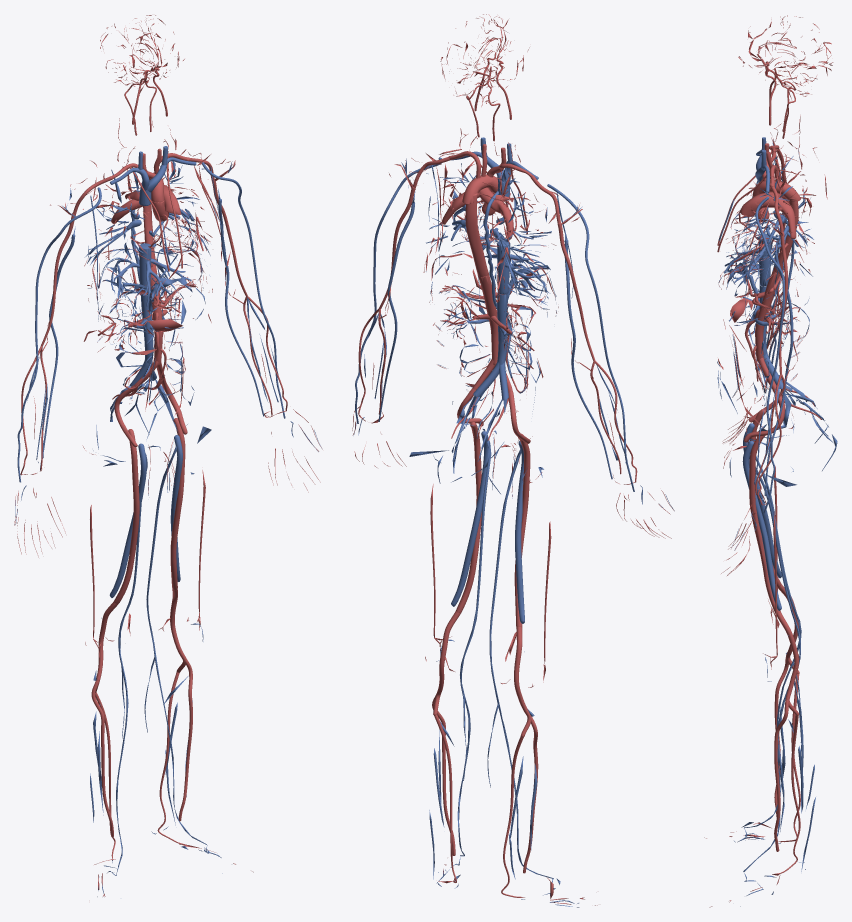
File: vessels.glb
3 renders of one model, left to right at view 1: azimuth 30°, elevation 25°; view 2: azimuth 150°, elevation 25°; view 3: azimuth 270°, elevation 25°, orthographic. The views are drawn at different scales.
Parts seen in each view (by area): view 1: arbre-veineux, arbre-arteriel, artere-femorale-droite, grande-veine-saphene-gauche, grande-veine-saphene-droit, artere-femorale-gauche, veine-cave-inferieure, veine-cephalique-droite, veine-femorale-droite, veine-cephalique-gauche, veine-femorale-gauche, veine-basilique-gauche (+2 smaller); view 2: arbre-veineux, arbre-arteriel, grande-veine-saphene-droit, grande-veine-saphene-gauche, veine-cave-inferieure, veine-femorale-droite, veine-femorale-gauche, artere-femorale-gauche, veine-cephalique-droite, aorte-thoracique-descendante, artere-femorale-droite, veine-cephalique-gauche (+3 smaller); view 3: arbre-arteriel, arbre-veineux, artere-femorale-gauche, veine-cephalique-gauche, veine-femorale-gauche, grande-veine-saphene-droit, grande-veine-saphene-gauche, aorte-abdominale, veine-cave-inferieure, veine-basilique-gauche, artere-anterieure-tibiale-gauche, veine-femorale-droite (+12 smaller).
Part boxes in pixels (box(x1,y1,x2,y2)): arbre-veineux: box(15, 161, 321, 896); arbre-arteriel: box(14, 15, 321, 896); artere-femorale-droite: box(114, 429, 139, 603); grande-veine-saphene-gauche: box(144, 446, 206, 844); grande-veine-saphene-droit: box(116, 453, 147, 866); artere-femorale-gauche: box(170, 418, 185, 590); veine-cave-inferieure: box(139, 243, 153, 364); veine-cephalique-droite: box(17, 187, 101, 482); veine-femorale-droite: box(109, 443, 146, 597); veine-cephalique-gauche: box(201, 162, 285, 418); veine-femorale-gauche: box(170, 435, 182, 581); veine-basilique-gauche: box(218, 198, 264, 416); arbre-veineux: box(353, 158, 674, 907); arbre-arteriel: box(352, 14, 673, 905); grande-veine-saphene-droit: box(487, 449, 553, 878); grande-veine-saphene-gauche: box(457, 440, 491, 856); veine-cave-inferieure: box(497, 240, 510, 365); veine-femorale-droite: box(515, 441, 524, 623); veine-femorale-gauche: box(451, 431, 488, 606); artere-femorale-gauche: box(456, 422, 481, 613); veine-cephalique-droite: box(547, 184, 634, 491); aorte-thoracique-descendante: box(465, 192, 488, 276); artere-femorale-droite: box(514, 433, 530, 627); veine-cephalique-gauche: box(355, 157, 441, 423); arbre-arteriel: box(704, 15, 833, 907); arbre-veineux: box(717, 139, 837, 906); artere-femorale-gauche: box(749, 435, 780, 614); veine-cephalique-gauche: box(755, 196, 784, 513); veine-femorale-gauche: box(742, 440, 781, 610); grande-veine-saphene-droit: box(744, 433, 801, 828); grande-veine-saphene-gauche: box(743, 454, 801, 871); aorte-abdominale: box(755, 270, 779, 362); veine-cave-inferieure: box(758, 233, 771, 355); veine-basilique-gauche: box(764, 252, 793, 495); artere-anterieure-tibiale-gauche: box(774, 699, 788, 851); veine-femorale-droite: box(743, 423, 781, 578).
Bounding box in the file's own units: 0.6462 × 1.7 × 0.2411.
